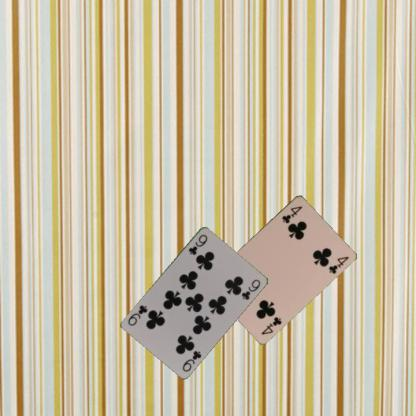4c: (280, 203, 304, 225), (259, 314, 283, 336)
9c: (186, 232, 209, 256), (180, 348, 202, 372)
